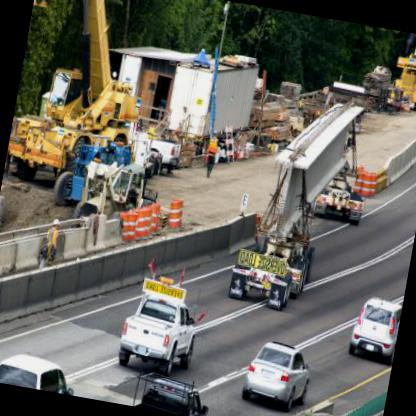truck: (3, 0, 169, 201), (220, 210, 319, 318), (70, 136, 164, 240), (104, 286, 201, 380), (304, 148, 376, 224), (377, 42, 415, 117)
